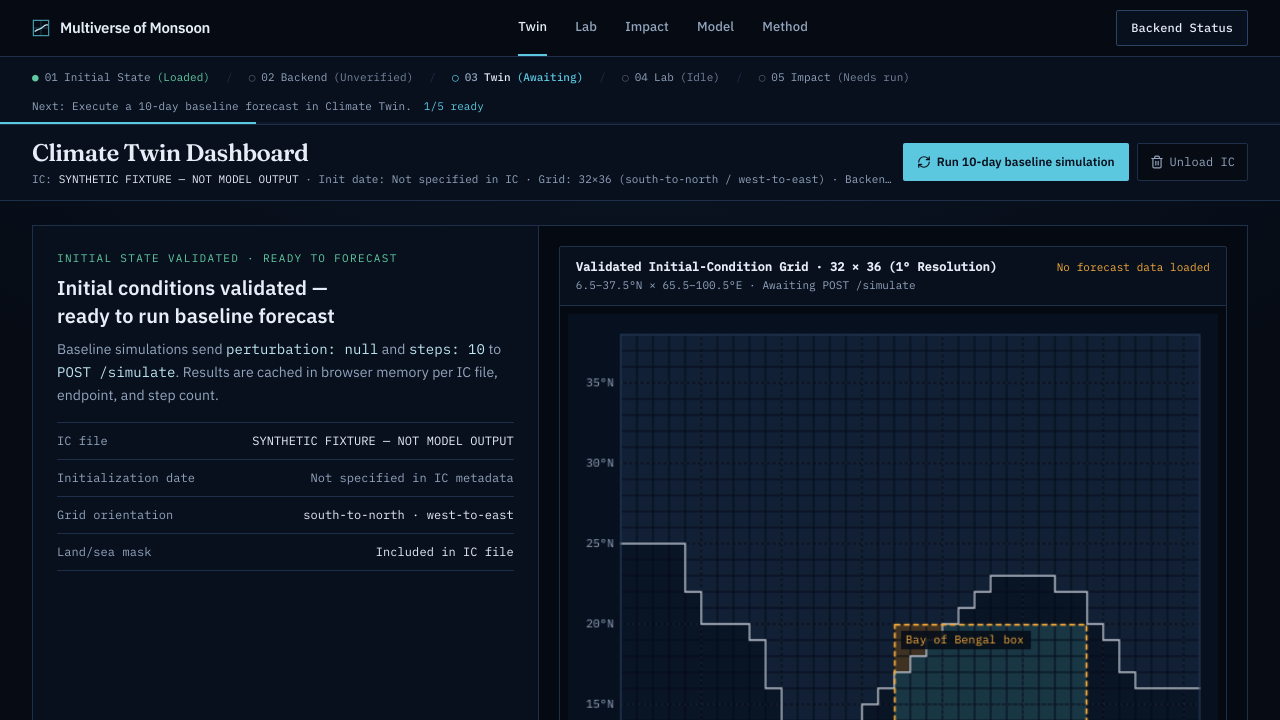
Test: Phase 3 accessibility, WCAG contrast, and reduced motion › blocks day playback with an accessible notice when prefers-reduced-motion: reduce is active
Earlier steps of the test are not shown.
Click the button "Run 10-day baseline simulation": x=1016, y=162 [903,143,1129,181]
(page scrolled)
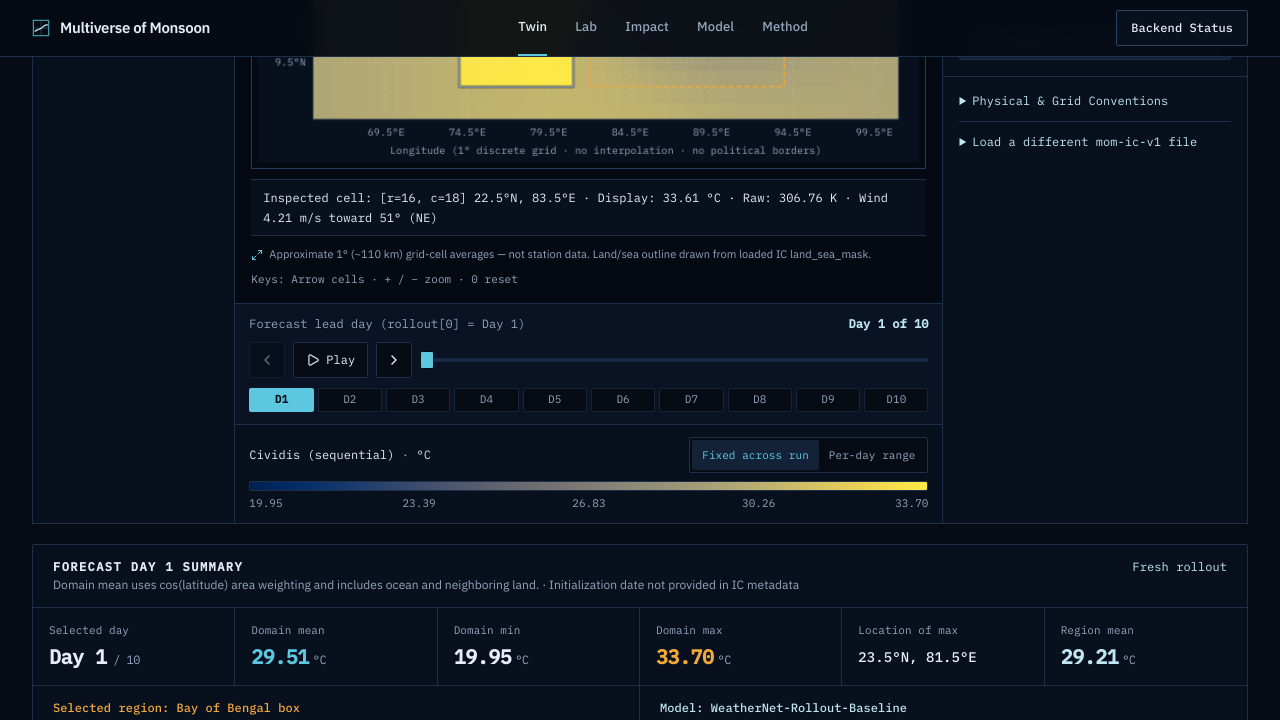
Click the button "Play": x=331, y=360 [293,342,368,378]
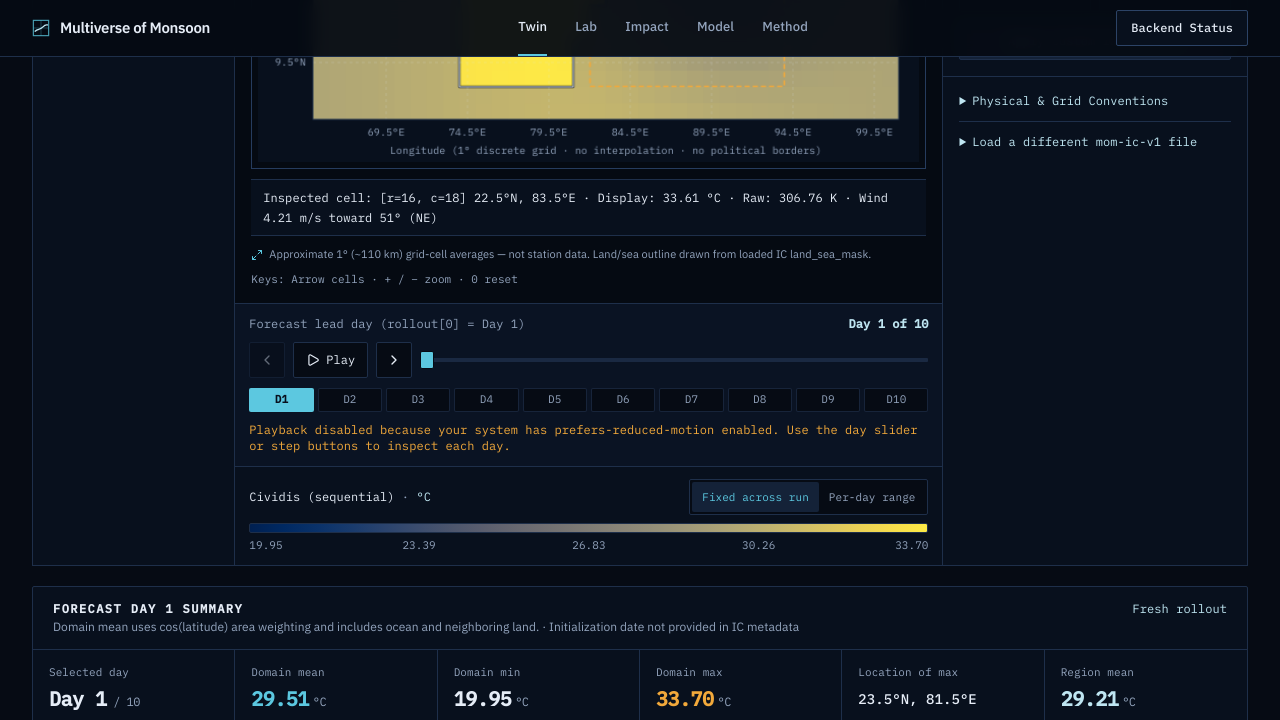
Now the text "Playback disabled because your system has" is shown, box [249,422,918,453]
